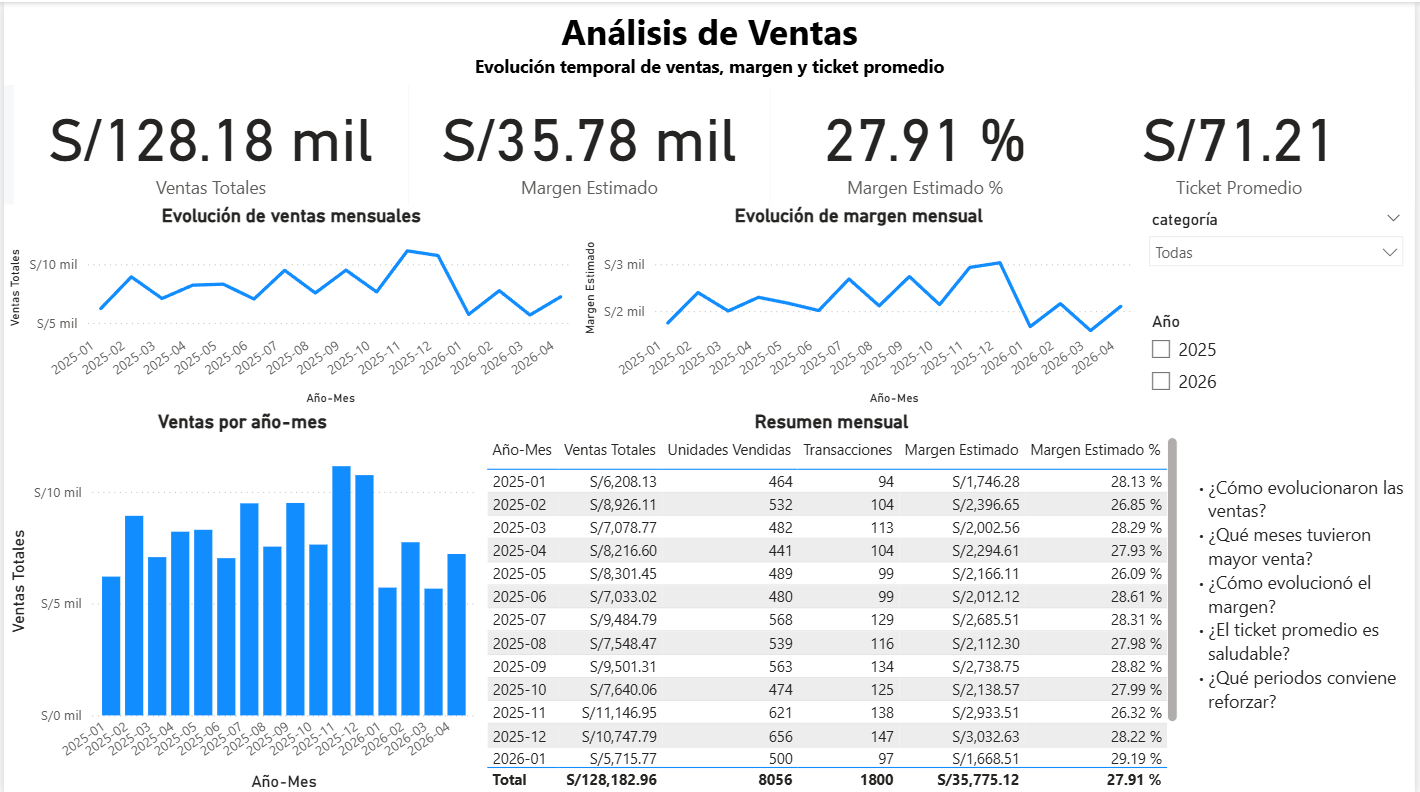

What the dashboard file says about the page in this screenshot:
{"tool":"powerbi","page":{"name":"Ventas","canvas":[1280,720],"ordinal":2},"visuals":[{"type":"card","fields":{"Values":["Medidas.Ventas Totales"]},"box":[9.6,75.1,357.6,109.2],"z":0},{"type":"card","fields":{"Values":["Medidas.Margen Estimado %"]},"box":[694.7,75.1,281.2,109.2],"z":1000},{"type":"card","fields":{"Values":["Medidas.Ticket Promedio"]},"box":[962.3,75.1,318,109.2],"z":2000},{"type":"card","fields":{"Values":["Medidas.Margen Estimado"]},"box":[367.2,75.1,327.6,109.2],"z":3000},{"type":"lineChart","title":"Evolución de ventas mensuales","fields":{"Category":["Calendario.Año-Mes"],"Y":["Medidas.Ventas Totales"]},"box":[0,184.3,521.4,187],"z":4000},{"type":"lineChart","title":"Evolución de margen mensual","fields":{"Category":["Calendario.Año-Mes"],"Y":["Medidas.Margen Estimado"]},"box":[521.4,184.3,507.7,187],"z":5000},{"type":"clusteredColumnChart","title":"Ventas por año-mes","fields":{"Category":["Calendario.Año-Mes"],"Y":["Medidas.Ventas Totales"]},"box":[0,371.3,432.7,349.4],"z":6000},{"type":"tableEx","title":"Resumen mensual","fields":{"Values":["Calendario.Año-Mes","Medidas.Ventas Totales","Medidas.Unidades Vendidas","Medidas.Transacciones","Medidas.Margen Estimado","Medidas.Margen Estimado %"]},"box":[432.7,371.3,637.4,349.4],"z":7000},{"type":"slicer","fields":{"Values":["Calendario.Año"]},"box":[1029.1,277.1,251.1,94.2],"z":8000},{"type":"slicer","fields":{"Values":["Productos.categoría"]},"box":[1029.1,184.3,251.1,92.8],"z":9000},{"type":"textbox","box":[0,0,1280.3,75.1],"z":10000},{"type":"textbox","box":[1070.1,371.3,210.2,349.4],"z":11000}]}

Visuals, with their boxes in screenshot pixels (x1, y1, x2, y2), scaled from the page's 1280x720 canvas onto the 1420x792 screenshot:
card - Medidas.Ventas Totales: <box>11,83,407,203</box>
card - Medidas.Margen Estimado %: <box>771,83,1083,203</box>
card - Medidas.Ticket Promedio: <box>1068,83,1419,203</box>
card - Medidas.Margen Estimado: <box>407,83,771,203</box>
"Evolución de ventas mensuales" lineChart: <box>0,203,578,408</box>
"Evolución de margen mensual" lineChart: <box>578,203,1142,408</box>
"Ventas por año-mes" clusteredColumnChart: <box>0,408,480,791</box>
"Resumen mensual" tableEx: <box>480,408,1187,791</box>
slicer - Calendario.Año: <box>1142,305,1419,408</box>
slicer - Productos.categoría: <box>1142,203,1419,305</box>
textbox: <box>0,0,1419,83</box>
textbox: <box>1187,408,1419,791</box>
